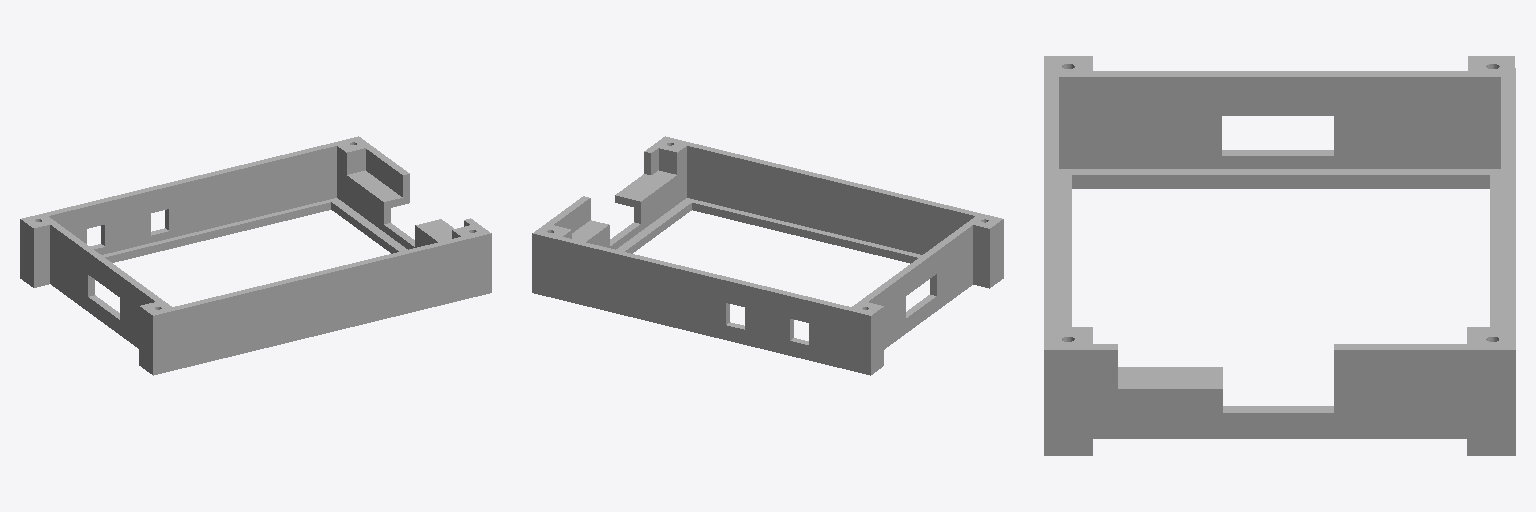
The robot description file, URDF, robot "root":
<?xml version='1.0' encoding='utf-8'?>
<robot name="root">
  <link name="link_001">
    <visual>
      <origin xyz="0 0 0" rpy="0 0 0" />
      <geometry>
        <mesh filename="bdb990fa1ae375138c27a995eca86cb4221b41d26da65486efef481dee8fe3d5_scale_000.stl" scale="1.0000E+00 1.0000E+00 1.0000E+00" />
      </geometry>
      <material name="">
        <color rgba="7.50E-01 7.50E-01 7.50E-01 1" />
      </material>
    </visual>
    <collision>
      <origin xyz="0 0 0" rpy="0 0 0" />
      <geometry>
        <mesh filename="bdb990fa1ae375138c27a995eca86cb4221b41d26da65486efef481dee8fe3d5_scale_000.stl" scale="1.0000E+00 1.0000E+00 1.0000E+00" />
      </geometry>
    </collision>
  </link>
</robot>

--- What the picture shows (computed from the rendered views, not written in the file) ---
Views: 3 orthographic renders of the robot side by side, from view 1: azimuth 30°, elevation 25°; view 2: azimuth 150°, elevation 25°; view 3: azimuth 270°, elevation 25°.
Model root with 1 links and 0 joints (none), rooted at link_001, posed all joints at 0.
Links seen in each view (by area): view 1: link_001; view 2: link_001; view 3: link_001.
Link boxes in pixels (box(x1,y1,x2,y2)): link_001: box(20, 136, 491, 375); link_001: box(532, 136, 1003, 375); link_001: box(1044, 56, 1515, 455).
Bounding box of the posed robot: 0.12 × 0.0814 × 0.0202 m (x, y, z).
Meshes: 1 distinct files referenced, 1 mesh visuals loaded (1 binary STL).
